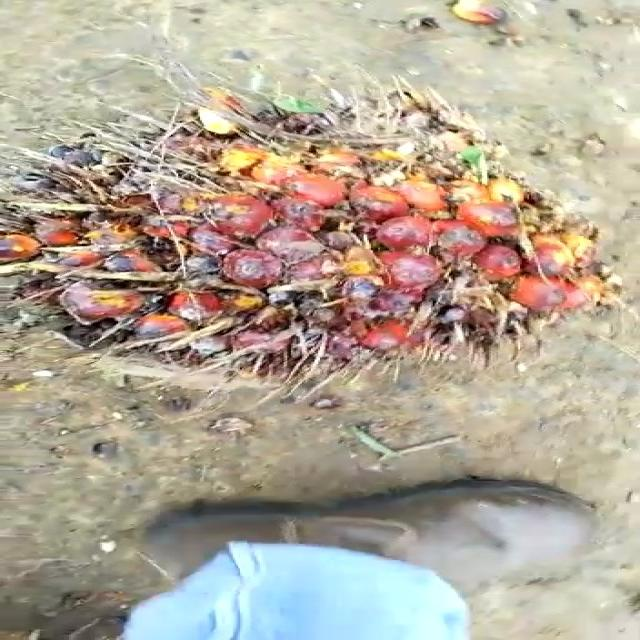palm oil: (0, 88, 633, 417)
